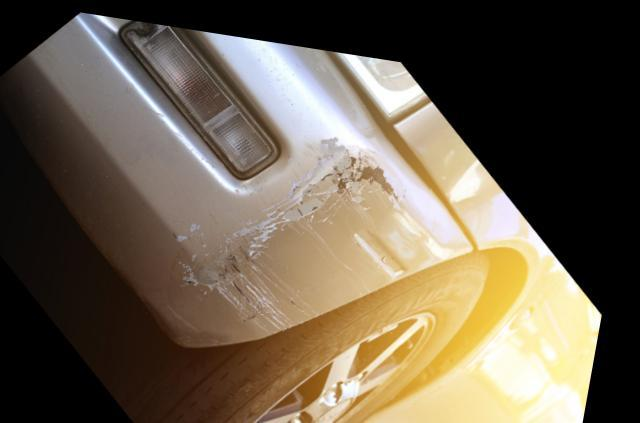rub: (175, 121, 434, 321)
